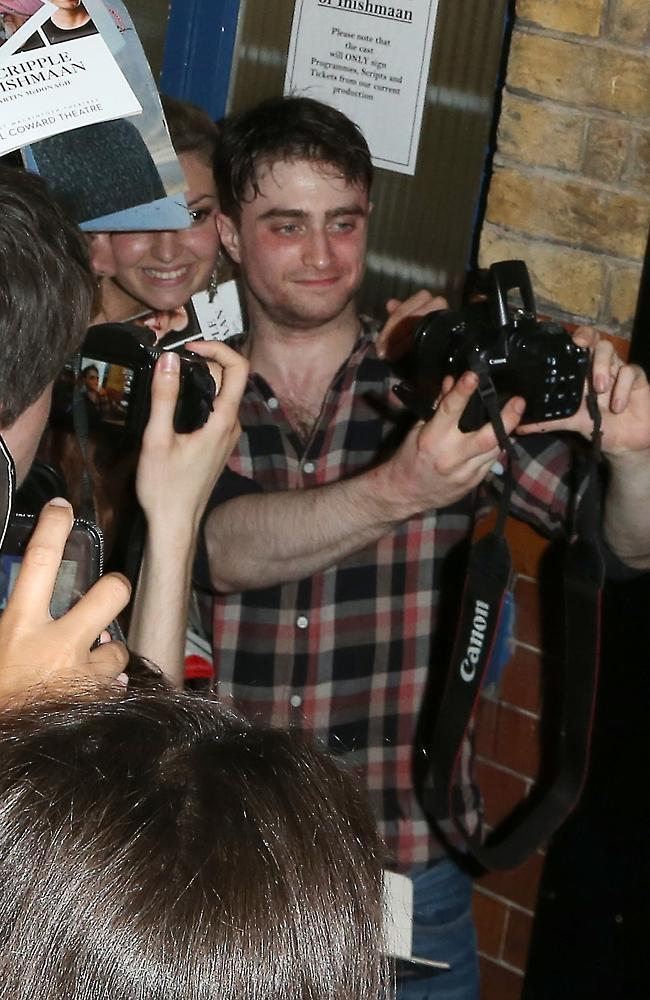Drunk: (257, 162, 373, 314)
